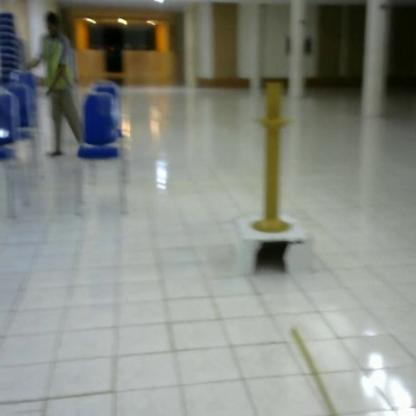pole: (244, 76, 300, 238)
